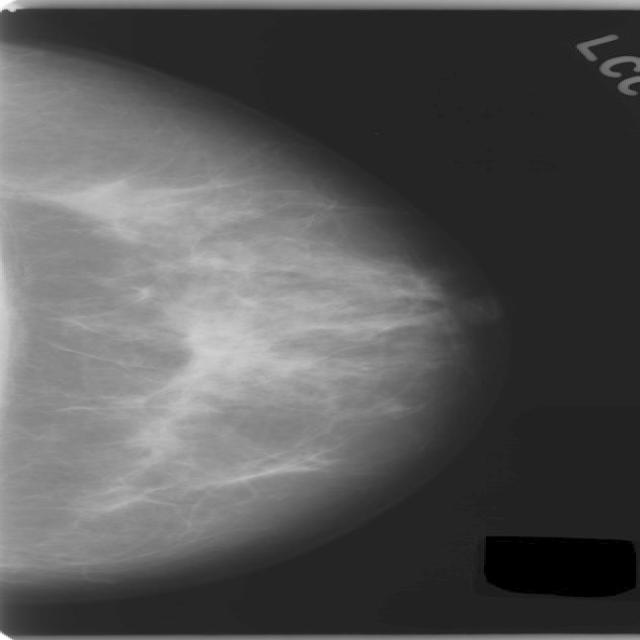tumour: (158, 300, 302, 386)
